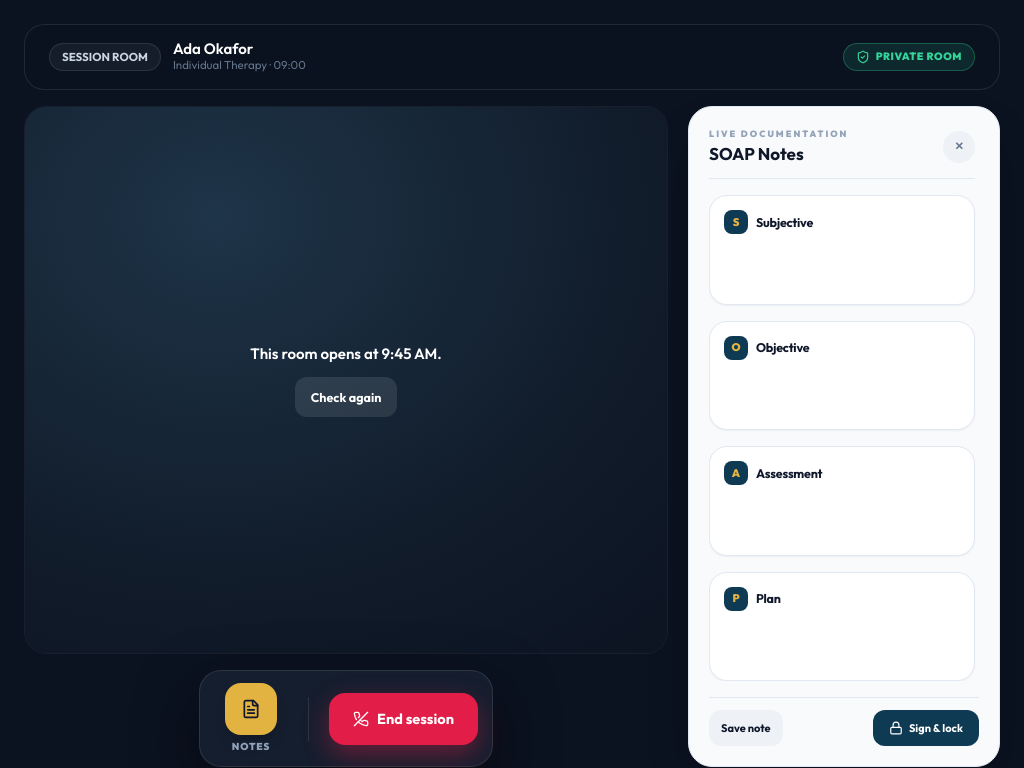
it: the therapist's session room › asks before ending the session
The width and height of the screenshot is (1024, 768).
Click the button "End session".
click(403, 719)  # box x1=329 y1=693 x2=478 y2=745
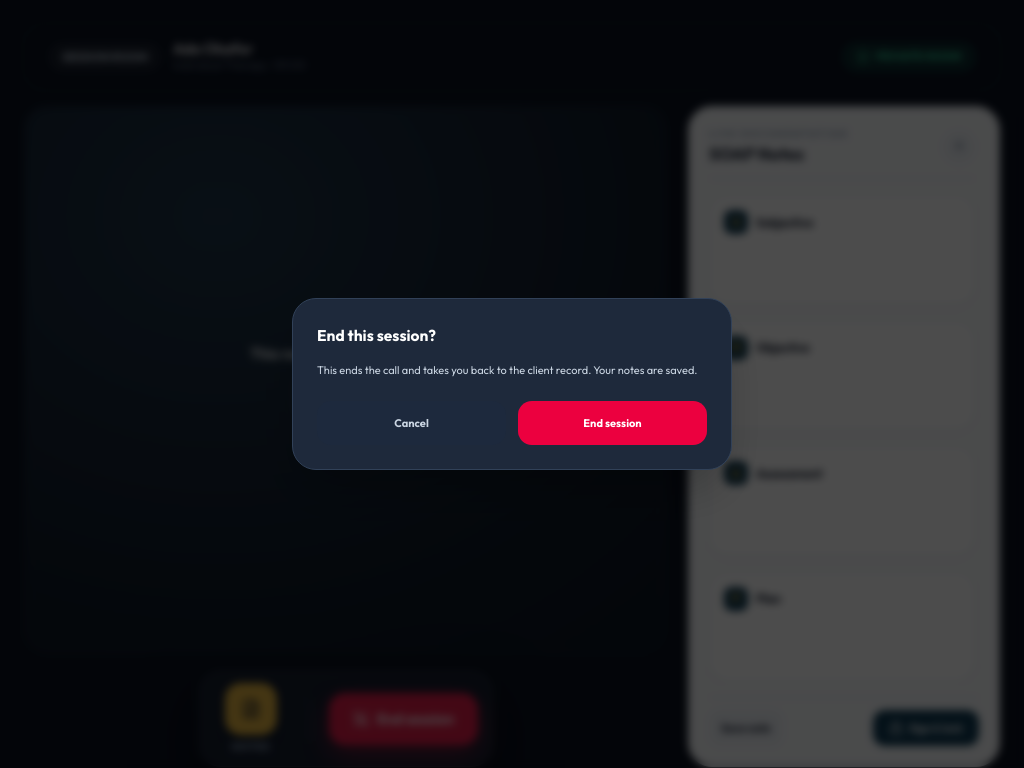
Check: the heading "End this session?" is shown, box x1=317 y1=325 x2=436 y2=345
